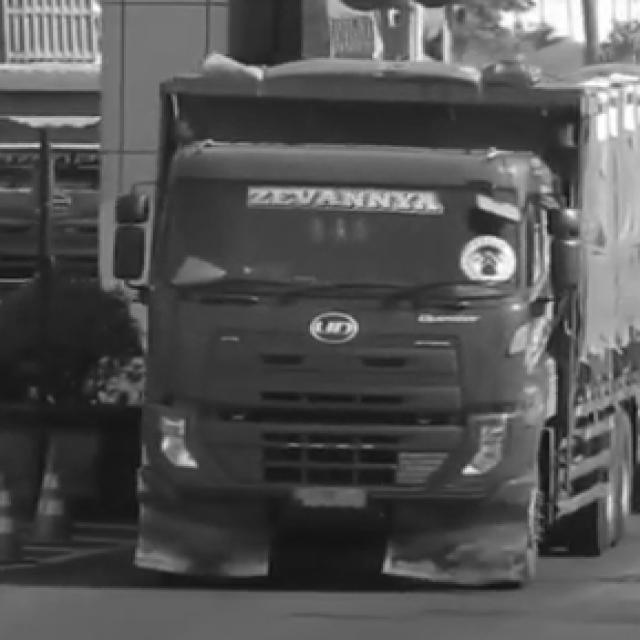Truck: (130, 56, 640, 589)
